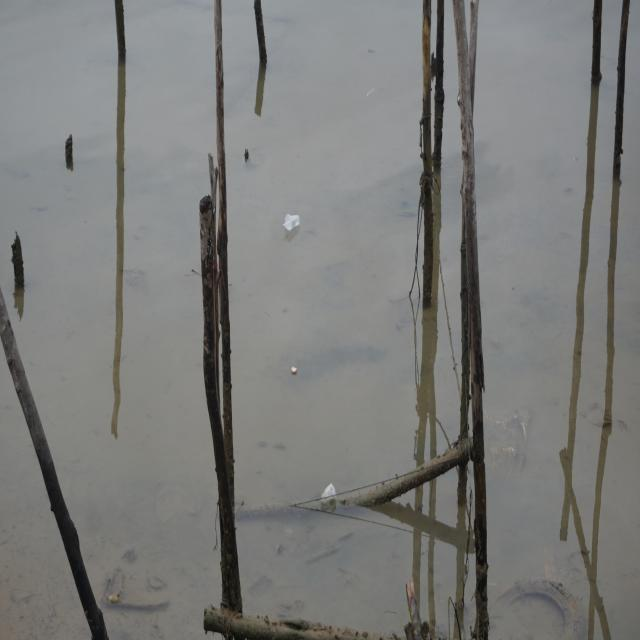Bungkus Minuman: (279, 205, 306, 241), (320, 483, 338, 506)
